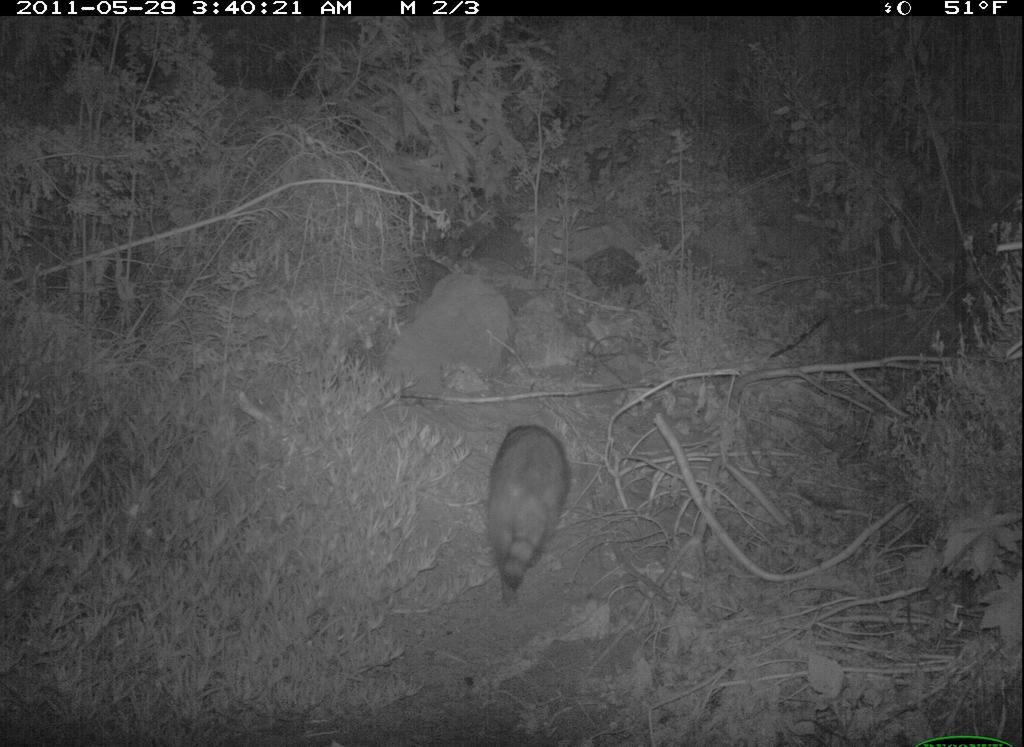raccoon: (484, 422, 575, 607)
